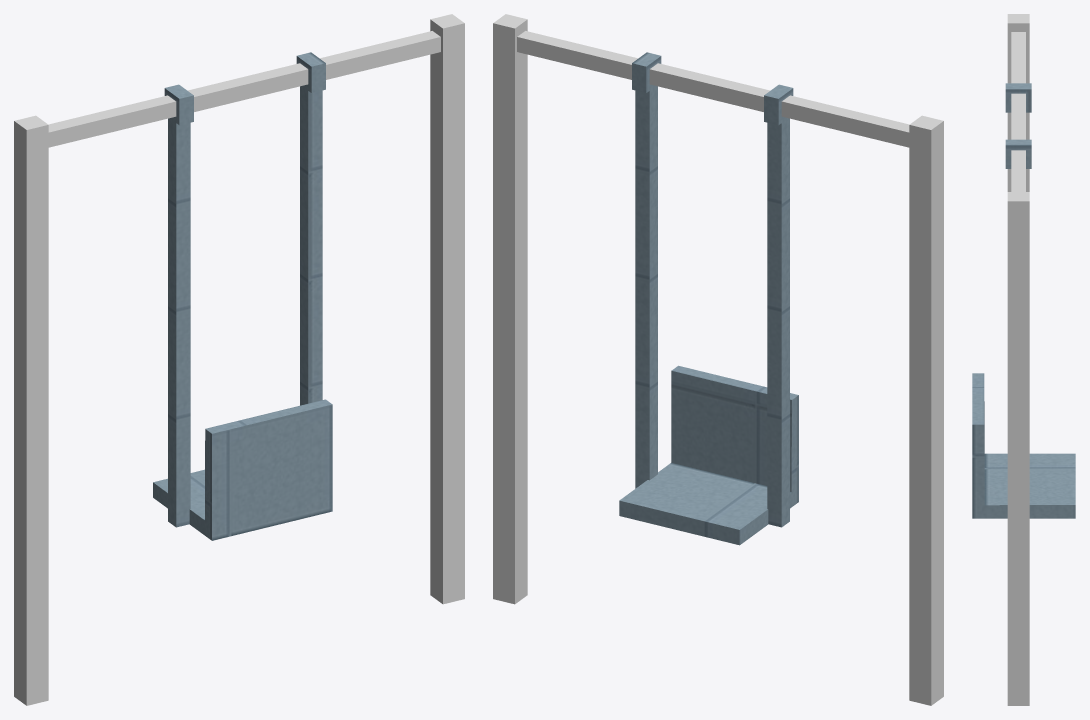
Rendered from Swing.fbx.
The picture shows the model from 3 angles, left to right: view 1: azimuth 30°, elevation 25°; view 2: azimuth 150°, elevation 25°; view 3: azimuth 270°, elevation 25°; orthographic projection. The views are drawn at different scales.
Parts seen in each view (by area): view 1: Cube.054, Cube.053; view 2: Cube.054, Cube.053; view 3: Cube.054, Cube.053.
Part boxes in pixels (x1=…): Cube.054: x1=14, y1=14, x2=464, y2=705; Cube.053: x1=153, y1=52, x2=332, y2=540; Cube.054: x1=493, y1=14, x2=943, y2=705; Cube.053: x1=619, y1=52, x2=798, y2=545; Cube.054: x1=1007, y1=14, x2=1029, y2=705; Cube.053: x1=972, y1=83, x2=1075, y2=518.
Size of the model in its own units: 108 by 136 by 25.21.
